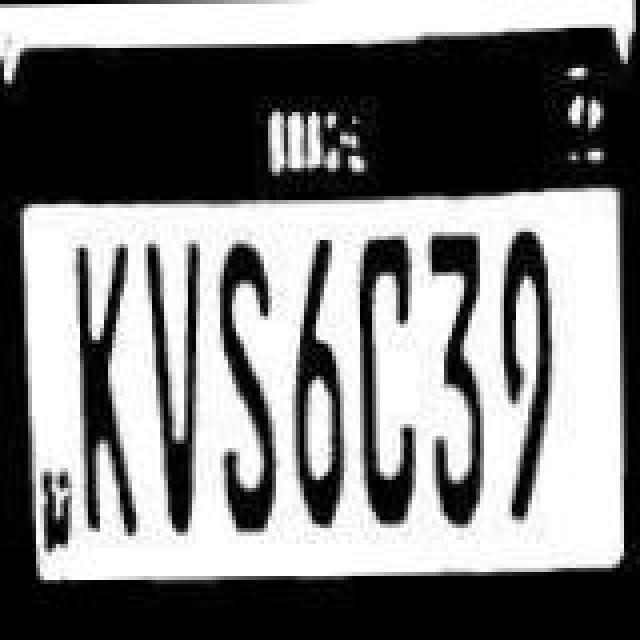3: (426, 222, 494, 526)
6: (292, 232, 352, 528)
9: (498, 206, 566, 522)
C: (350, 236, 430, 536)
K: (68, 244, 144, 540)
S: (208, 236, 284, 536)
V: (144, 242, 212, 530)
